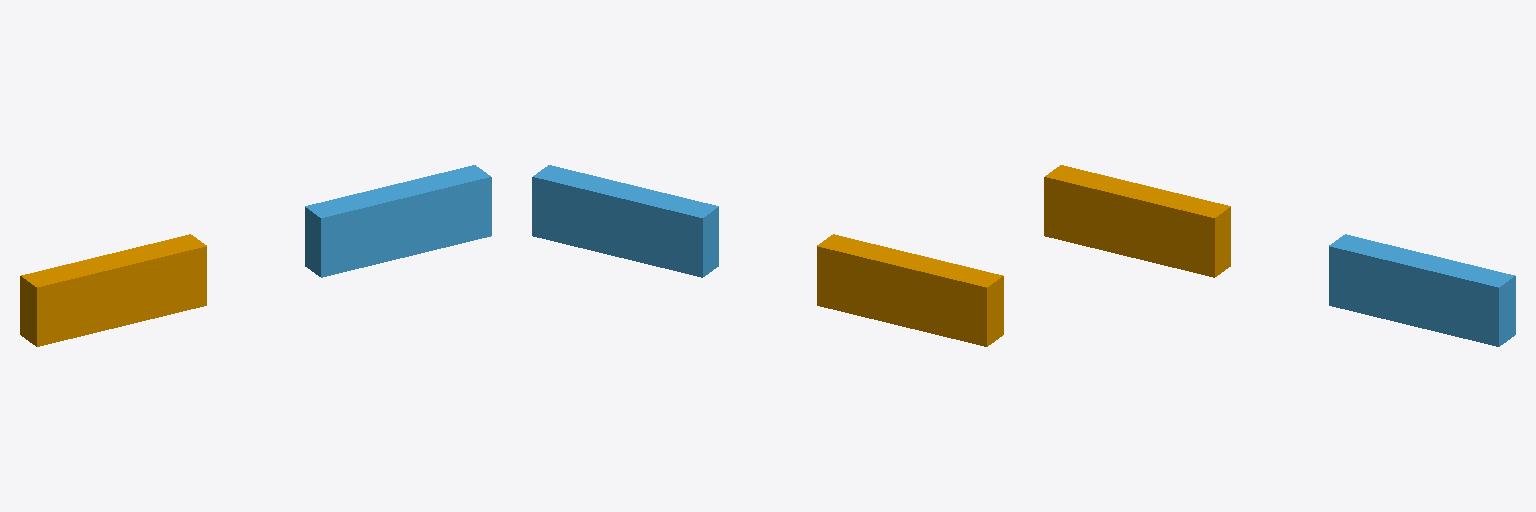
The robot description file, URDF, robot "origins":
<?xml version="1.0"?>
<robot name="origins">
  <link name="base_link">
    <visual>
      <geometry>
        <box size="0.6 0.1 0.2"/>
        <origin rpy="0 0 0" xyz="1 0 0"/>
      </geometry>
    </visual>
  </link>

  <link name="right_leg">
    <visual>
      <geometry>
        <box size="0.6 0.1 0.2"/>
      </geometry>
      <origin rpy="0 0 0" xyz="0 0 0"/>
    </visual>
  </link>

  <joint name="base_to_right_leg" type="fixed">
    <parent link="base_link"/>
    <child link="right_leg"/>
    <origin rpy="0 0 0" xyz="1 0 0"/>
  </joint>

</robot>

--- What the picture shows (computed from the rendered views, not written in the file) ---
3 views of the same robot in one strip: view 1: azimuth 30°, elevation 25°; view 2: azimuth 150°, elevation 25°; view 3: azimuth 330°, elevation 25° (orthographic).
Model origins with 2 links and 1 joints (1 fixed), rooted at base_link, posed every joint at zero.
Visible links, largest first — view 1: base_link, right_leg; view 2: base_link, right_leg; view 3: base_link, right_leg.
Link boxes in pixels (bbox=[...]): base_link: bbox=[20, 234, 206, 346]; right_leg: bbox=[305, 165, 491, 277]; base_link: bbox=[817, 234, 1003, 346]; right_leg: bbox=[532, 165, 718, 277]; base_link: bbox=[1044, 165, 1230, 277]; right_leg: bbox=[1329, 234, 1515, 346].
Size in the robot's own frame: 1.6 by 0.1 by 0.2 metres.
Geometry: primitives only (box / cylinder / sphere), no mesh files.